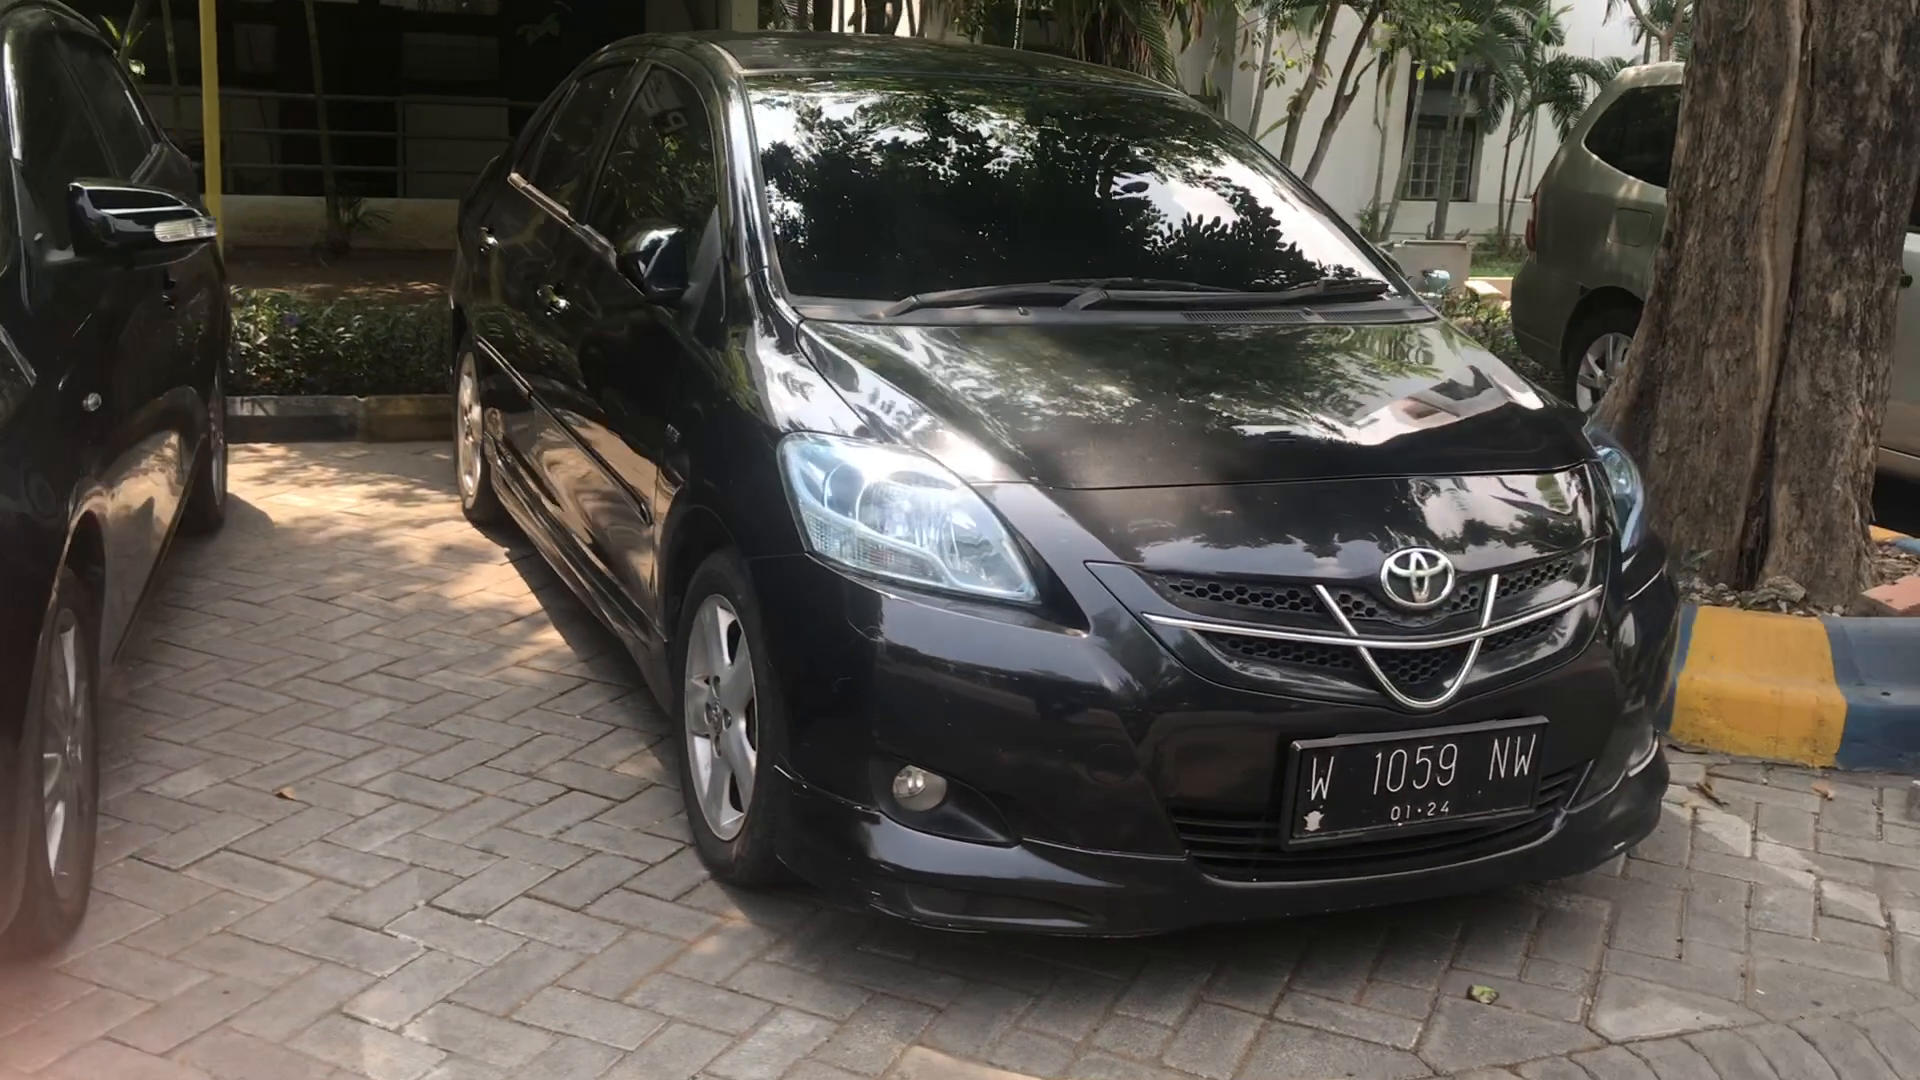plate: (1287, 730, 1555, 835)
